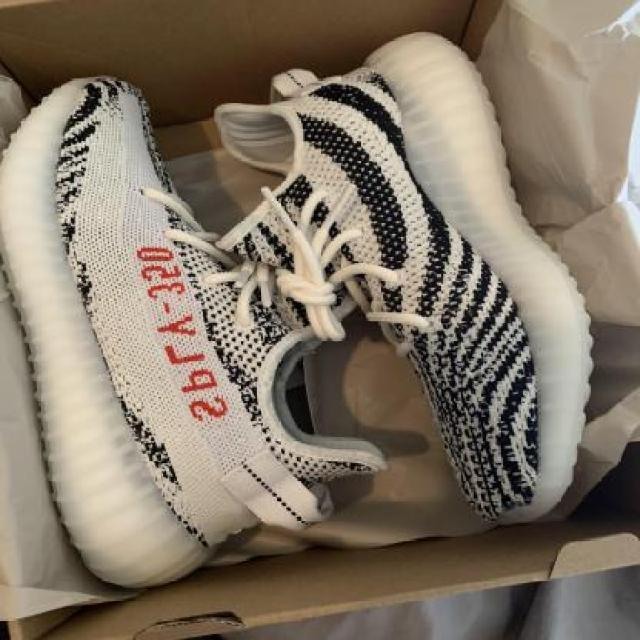shoe: (238, 28, 599, 528), (2, 76, 280, 590)
